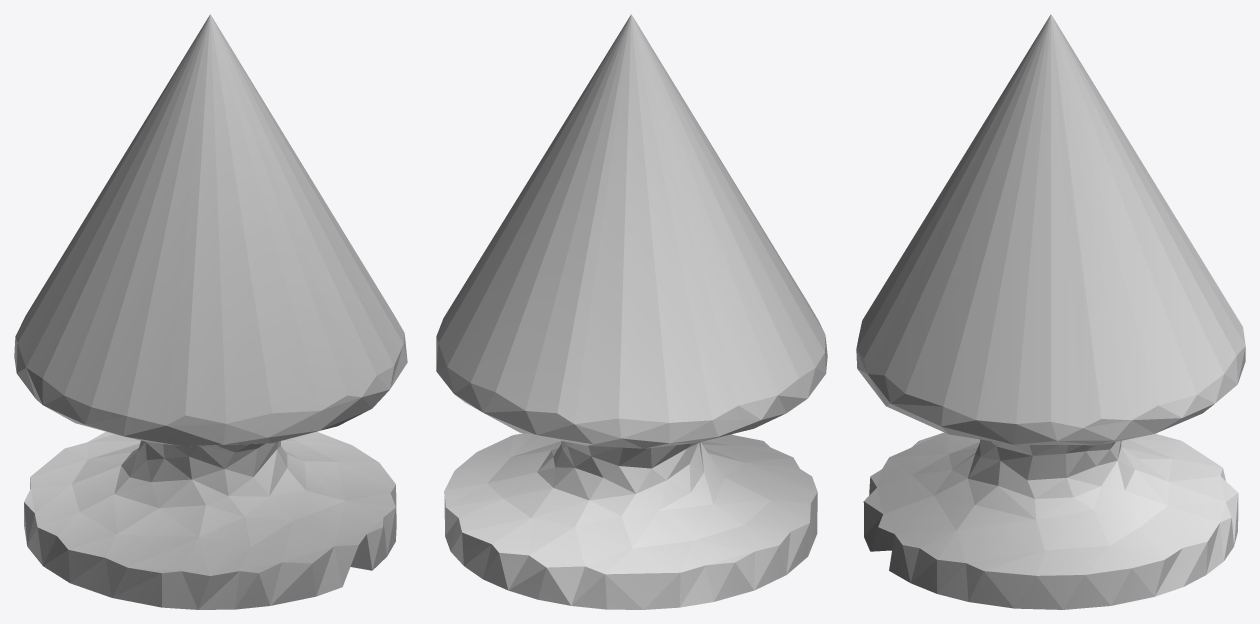
The model's file is spike_model.fbx.
3 views of the same model, side by side, from view 1: azimuth 30°, elevation 25°; view 2: azimuth 150°, elevation 25°; view 3: azimuth 270°, elevation 25° (orthographic).
Parts seen in each view (by area): view 1: Spike_Soli; view 2: Spike_Soli; view 3: Spike_Soli.
Part boxes in pixels (<box>): Spike_Soli: <box>14,14,407,609</box>; Spike_Soli: <box>436,14,827,609</box>; Spike_Soli: <box>856,14,1245,609</box>.
Size of the model in its own units: 0.118 by 0.17 by 0.116.
